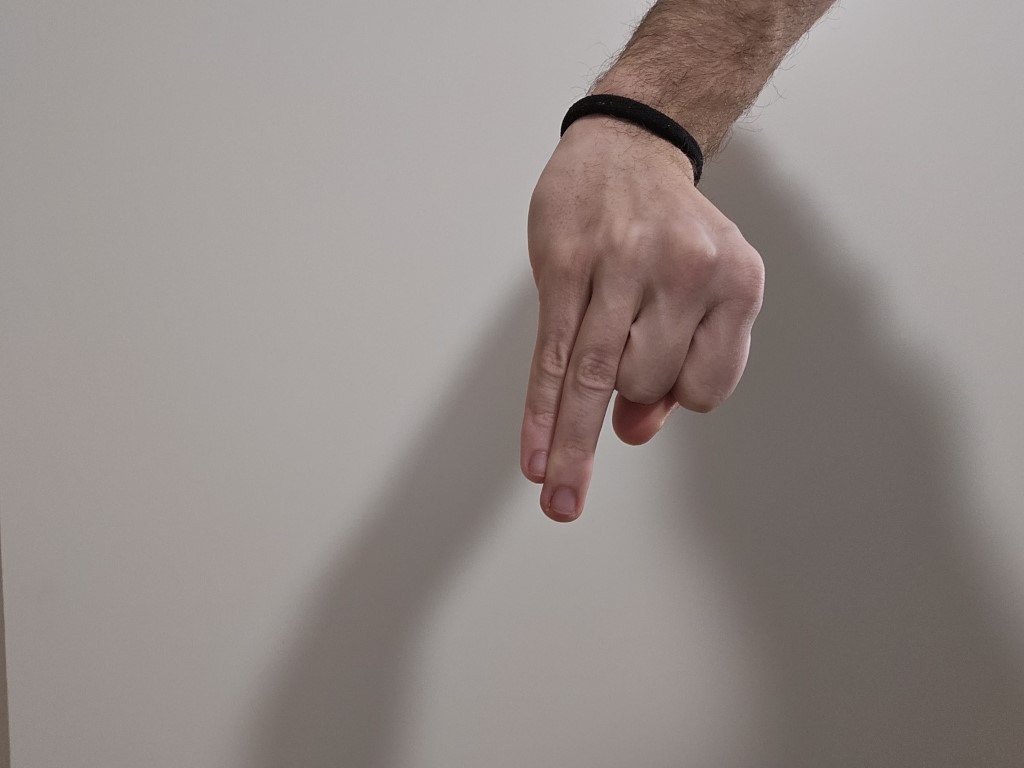n: (494, 136, 778, 557)
